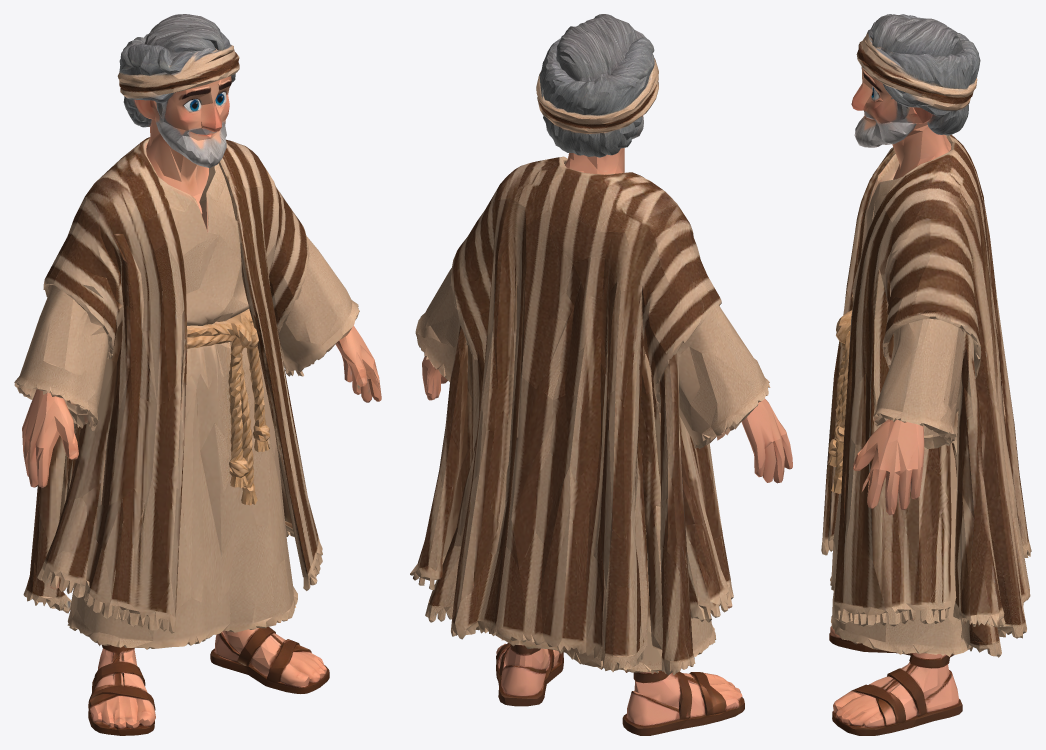
The picture shows the model from 3 angles, left to right: view 1: azimuth 30°, elevation 25°; view 2: azimuth 150°, elevation 25°; view 3: azimuth 270°, elevation 25°; orthographic projection. The views are drawn at different scales.
Parts seen in each view (by area): view 1: Mesh_0; view 2: Mesh_0; view 3: Mesh_0.
Boxes of the visible parts, left/top/right/bottom form: Mesh_0: left=14, top=14, right=381, bottom=735; Mesh_0: left=410, top=14, right=792, bottom=735; Mesh_0: left=821, top=14, right=1031, bottom=735.
Size of the model in its own units: 1.04 by 1.9 by 0.5485.
1 material, 1 textured.
